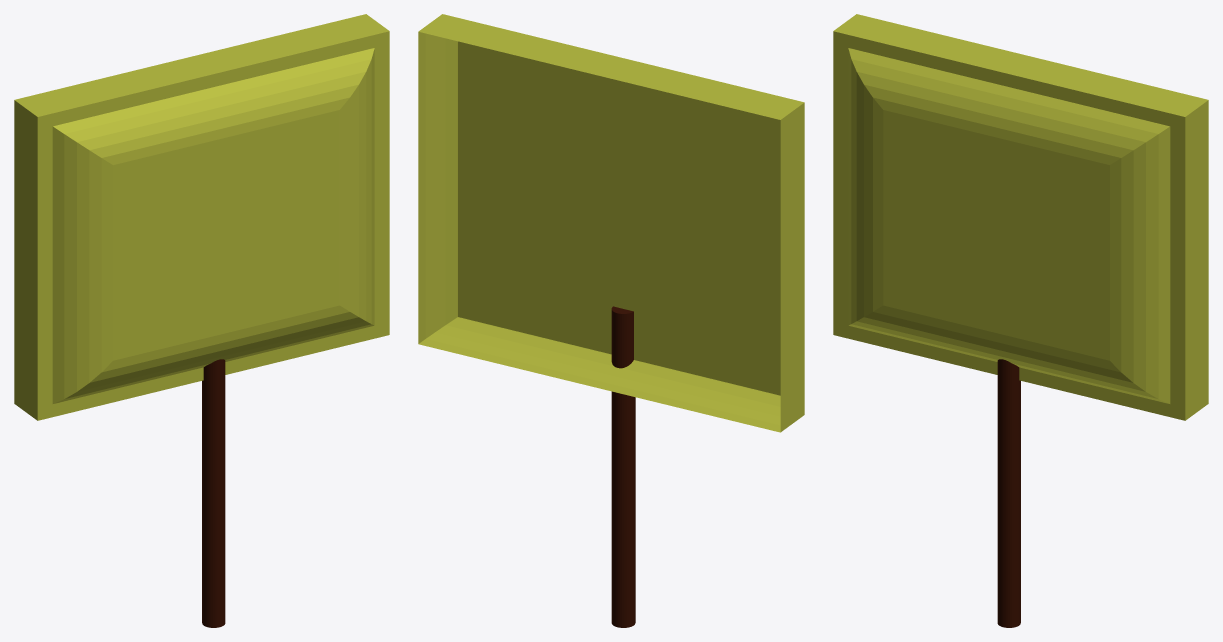
The model's file is warming.fbx.
The picture shows the model from 3 angles, left to right: view 1: azimuth 30°, elevation 25°; view 2: azimuth 150°, elevation 25°; view 3: azimuth 330°, elevation 25°; orthographic projection. The views are drawn at different scales.
Visible parts, largest first — view 1: 平面.001; view 2: 平面.001; view 3: 平面.001.
Boxes of the visible parts, x1,y1,x2,y2 form: 平面.001: [14, 14, 389, 627]; 平面.001: [418, 14, 804, 627]; 平面.001: [833, 14, 1208, 627].
Bounding box in the file's own units: 200 × 298 × 35.62.
2 materials, 1 textured.
